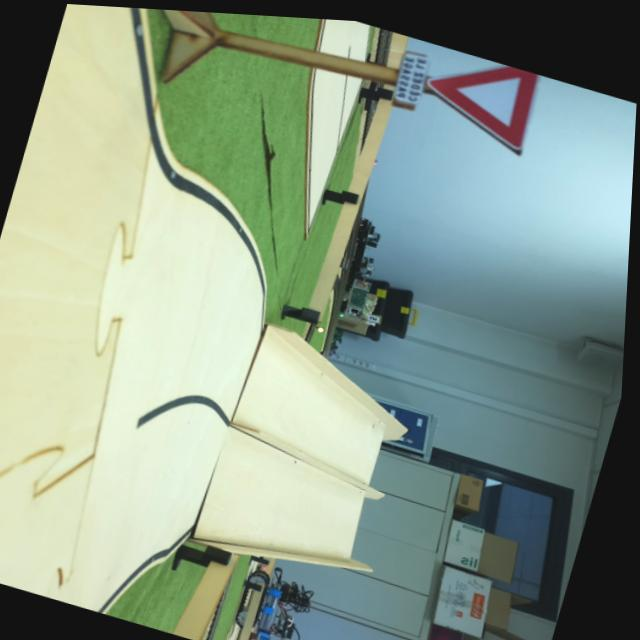panneau_ceder_passage: (368, 31, 557, 169)
pont: (188, 310, 445, 600)
